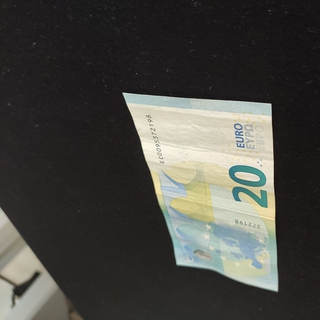20EUROBack: (121, 92, 279, 292)
